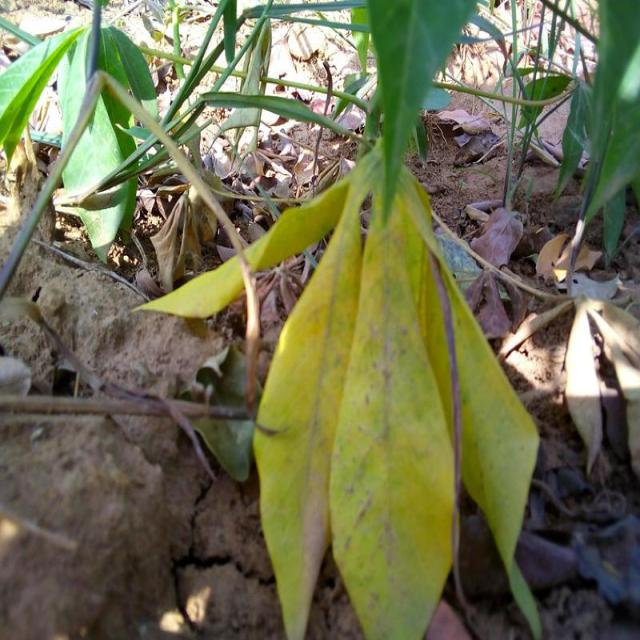cassava leaf: (249, 144, 540, 639), (326, 166, 457, 638), (52, 21, 158, 262)
